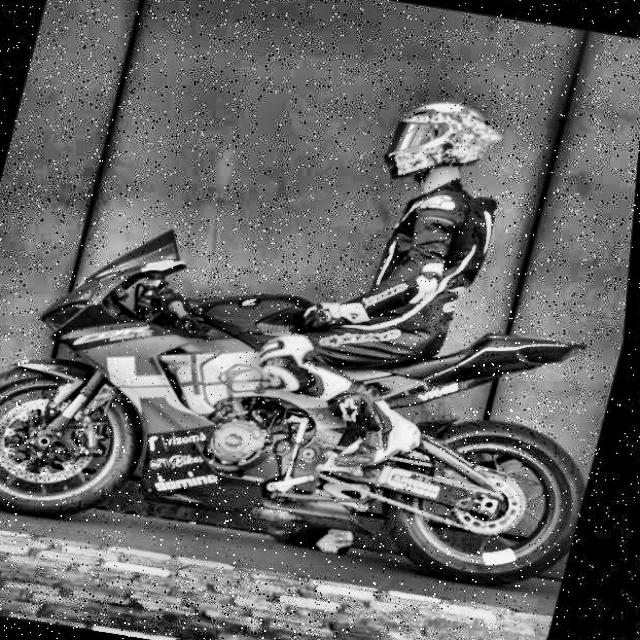Helmet: (374, 85, 516, 198)
